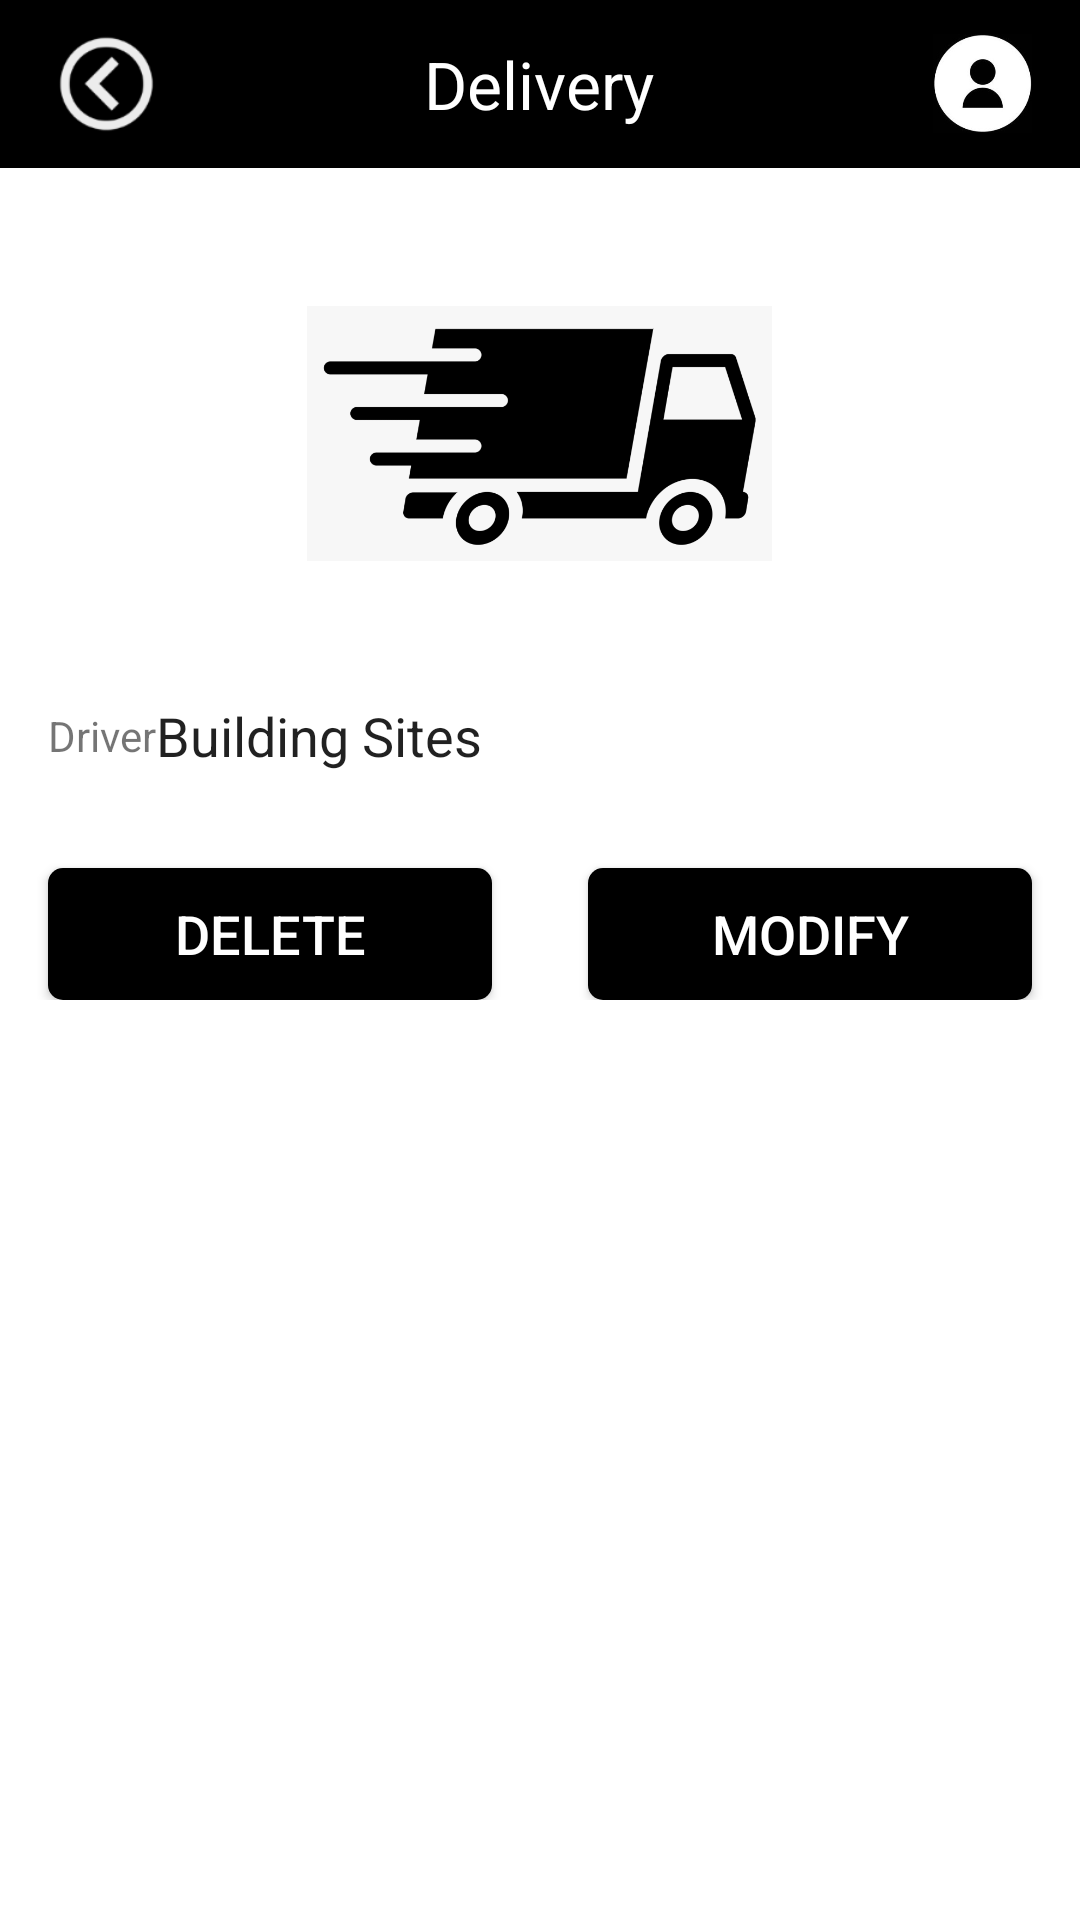

Named icons in this screenshot (1080×1920) and their centers, (x,y):
account: (982,83)
back: (106,84)
